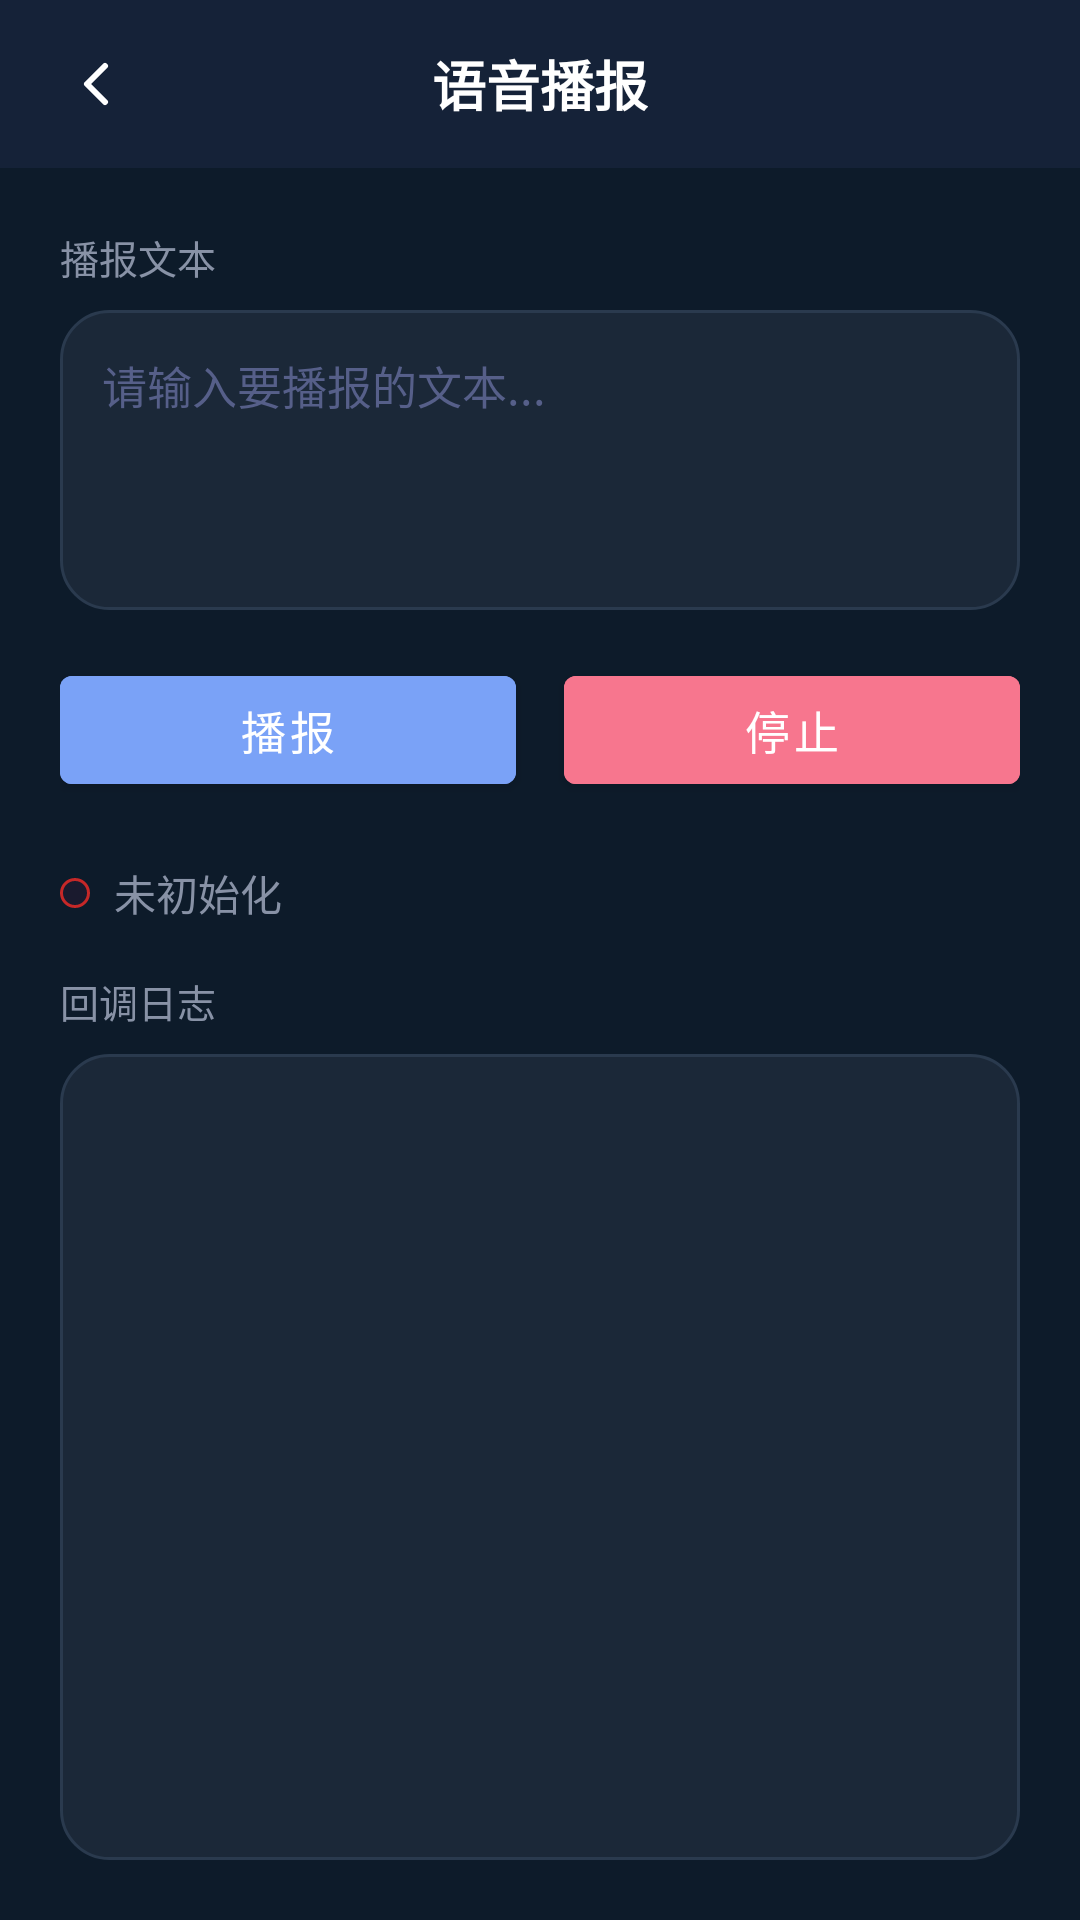

Icons on this 1080*1920 Android screen, each with its box as (x1, y1, x2, y2):
back arrow: (84, 63, 108, 105)
